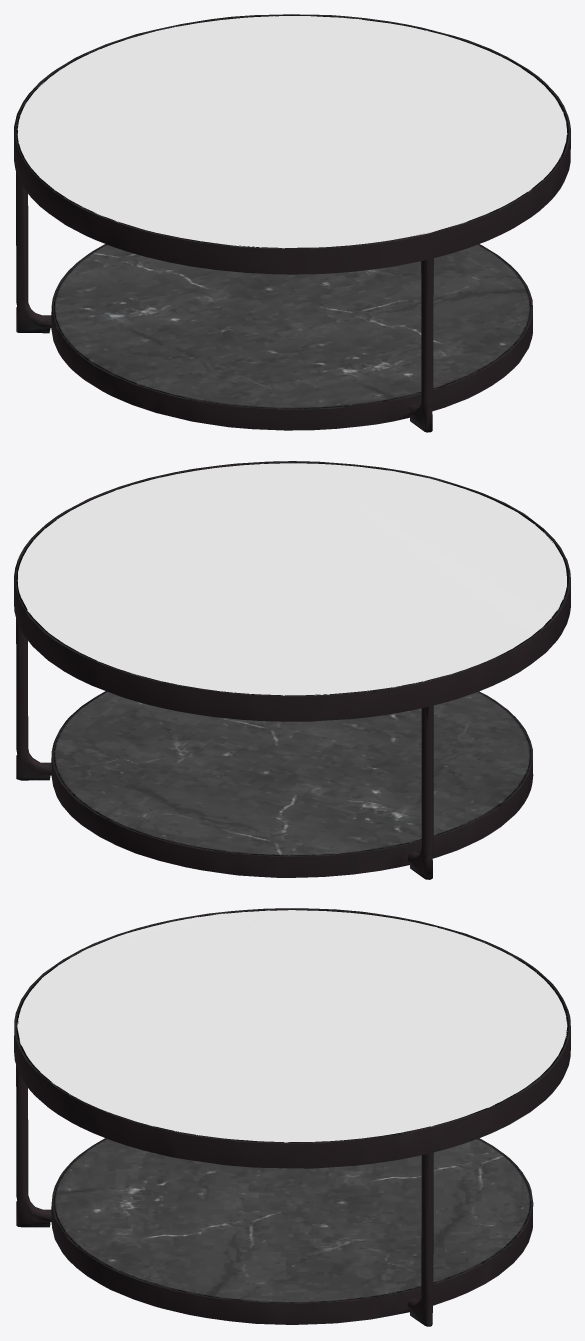
The picture shows the model from 3 angles, top to bottom: view 1: azimuth 30°, elevation 25°; view 2: azimuth 150°, elevation 25°; view 3: azimuth 270°, elevation 25°; orthographic projection.
Parts seen in each view (by area): view 1: ProcessedMeshNode; view 2: ProcessedMeshNode; view 3: ProcessedMeshNode.
Part boxes in pixels (<box>): ProcessedMeshNode: <box>14,14,570,432</box>; ProcessedMeshNode: <box>14,461,570,879</box>; ProcessedMeshNode: <box>14,908,570,1326</box>.
Size of the model in its own units: 0.8841 by 0.3508 by 0.8842.
Materials: 2 (2 with a texture image).
